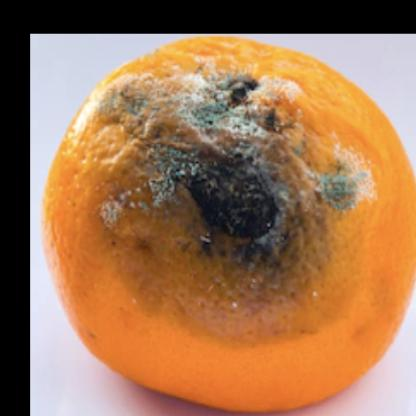rotten: (44, 36, 415, 416)
